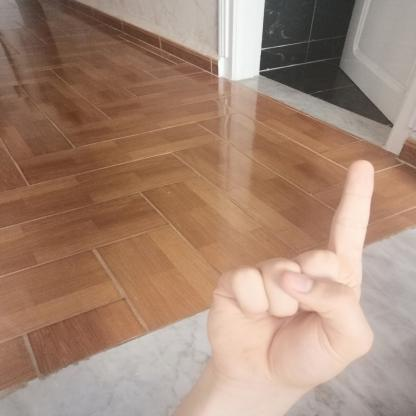BAA: (187, 150, 398, 397)
